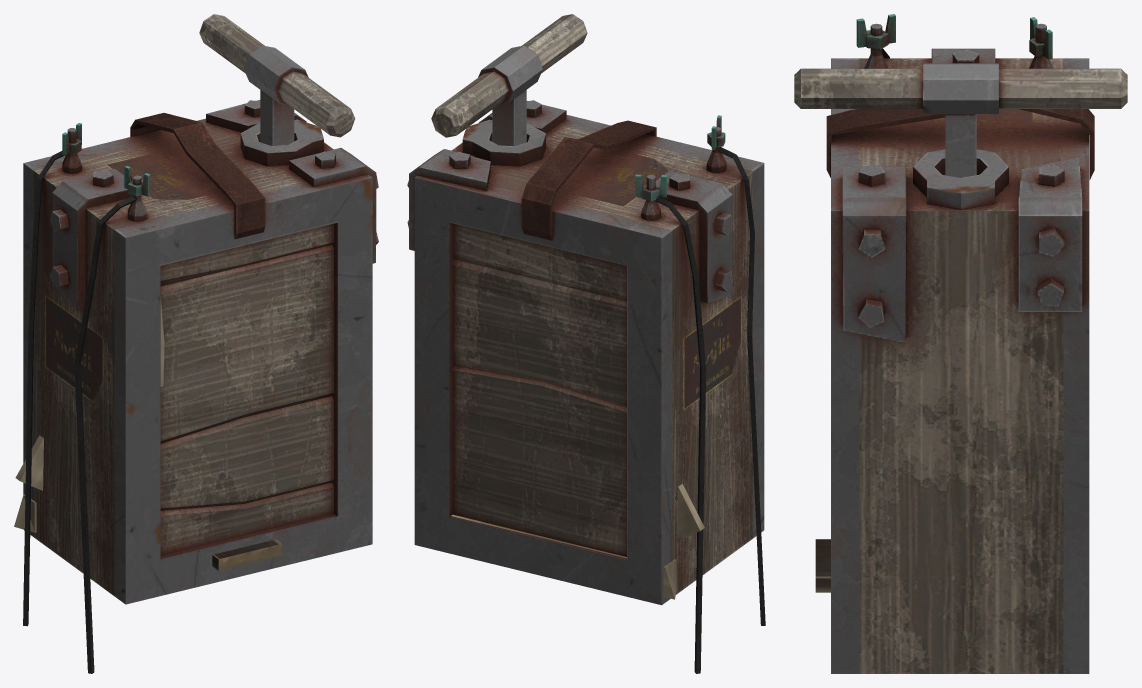
File: BoomBox_Physics.glb
3 renders of one model, left to right at view 1: azimuth 30°, elevation 25°; view 2: azimuth 150°, elevation 25°; view 3: azimuth 270°, elevation 25°, orthographic. The views are drawn at different scales.
Visible parts, largest first — view 1: BoomBox_Physics, BoomBoxHandle, BreakableCrate_1_Gib7, BreakableCrate_1_Gib8; view 2: BoomBox_Physics, BoomBoxHandle, BreakableCrate_1_Gib8, BreakableCrate_1_Gib7; view 3: BoomBox_Physics, BoomBoxHandle, BreakableCrate_1_Gib7.
Part boxes in pixels (box(x1,y1,x2,y2)): BoomBox_Physics: box(23, 100, 378, 673); BoomBoxHandle: box(199, 14, 355, 145); BreakableCrate_1_Gib7: box(14, 494, 281, 570); BreakableCrate_1_Gib8: box(15, 435, 43, 490); BoomBox_Physics: box(407, 100, 765, 673); BoomBoxHandle: box(431, 14, 587, 146); BreakableCrate_1_Gib8: box(677, 483, 704, 540); BreakableCrate_1_Gib7: box(451, 514, 676, 599); BoomBox_Physics: box(826, 14, 1094, 673); BoomBoxHandle: box(794, 63, 1127, 177); BreakableCrate_1_Gib7: box(815, 539, 830, 592).
Bounding box in the file's own units: 0.4895 × 0.8768 × 0.3895.
2 materials, 2 textured.
